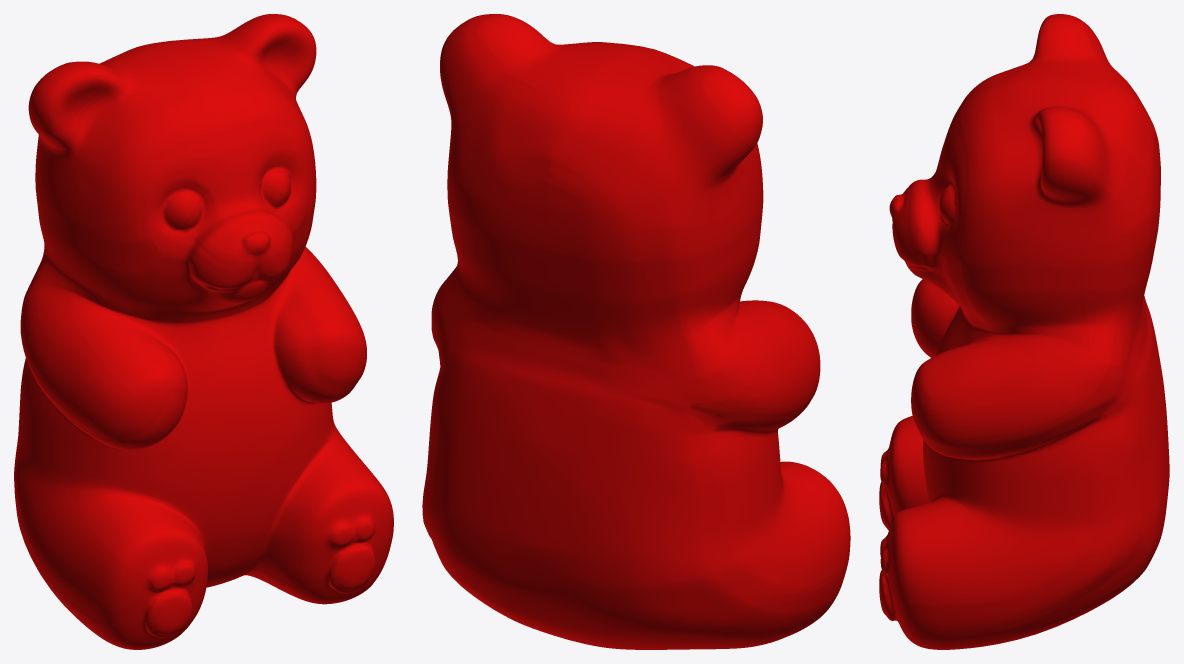
The model's file is red.fbx.
The picture shows the model from 3 angles, left to right: view 1: azimuth 30°, elevation 25°; view 2: azimuth 150°, elevation 25°; view 3: azimuth 270°, elevation 25°; orthographic projection. The views are drawn at different scales.
Visible parts, largest first — view 1: bHP5; view 2: bHP5; view 3: bHP5.
Part boxes in pixels (box(x1,y1,x2,y2)): bHP5: box(14, 14, 393, 649); bHP5: box(422, 14, 850, 649); bHP5: box(879, 14, 1169, 649).
Bounding box in the file's own units: 5.54 × 9.18 × 4.54.
